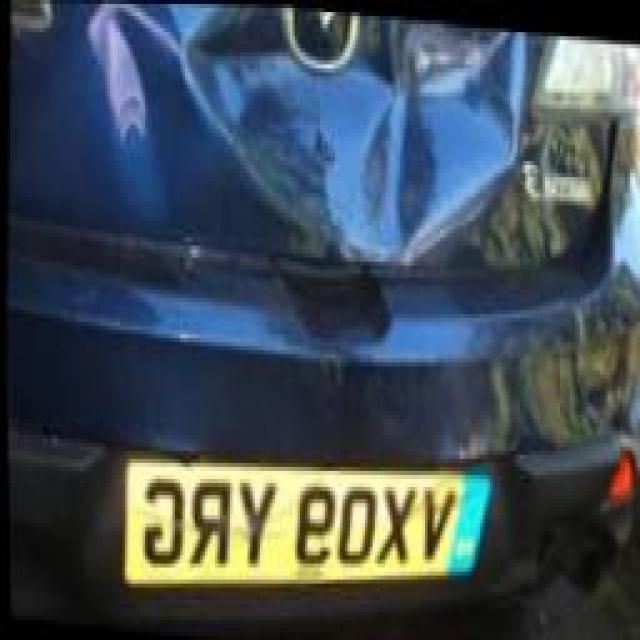Bumper: (321, 285, 635, 617)
Dickey: (10, 1, 605, 262)
